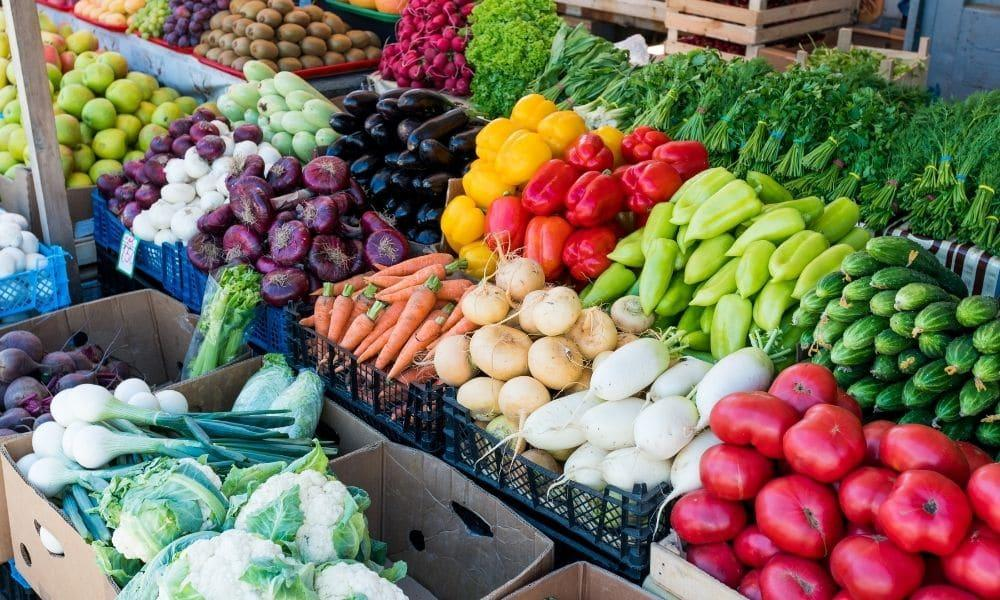beet: (1, 327, 111, 411)
cabbage: (106, 473, 415, 600)
carrot: (316, 252, 474, 371)
cucumber: (813, 249, 1000, 441)
eggplant: (324, 89, 460, 238)
garlic: (0, 211, 67, 290)
grapes: (123, 0, 210, 41)
green apple: (1, 26, 172, 175)
onion: (224, 156, 388, 295), (451, 269, 602, 409), (124, 114, 254, 254)
sweet pepper: (444, 98, 707, 284), (596, 185, 854, 348)
tomato: (680, 359, 1000, 600)
